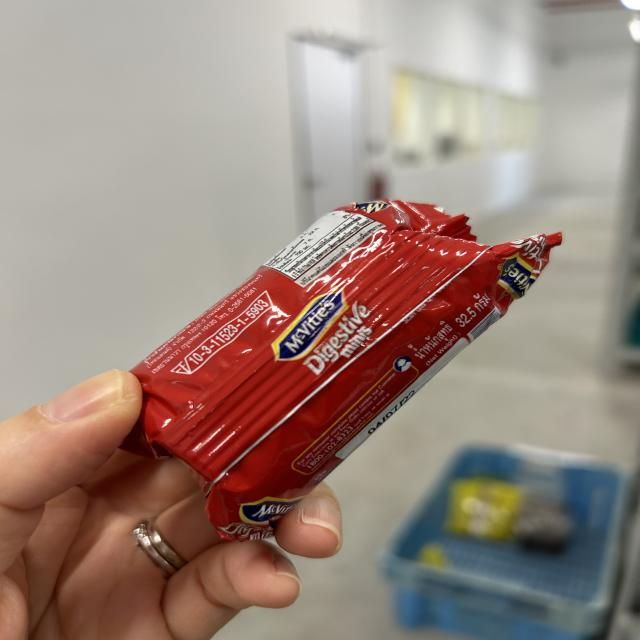object_name: (176, 205, 489, 475)
